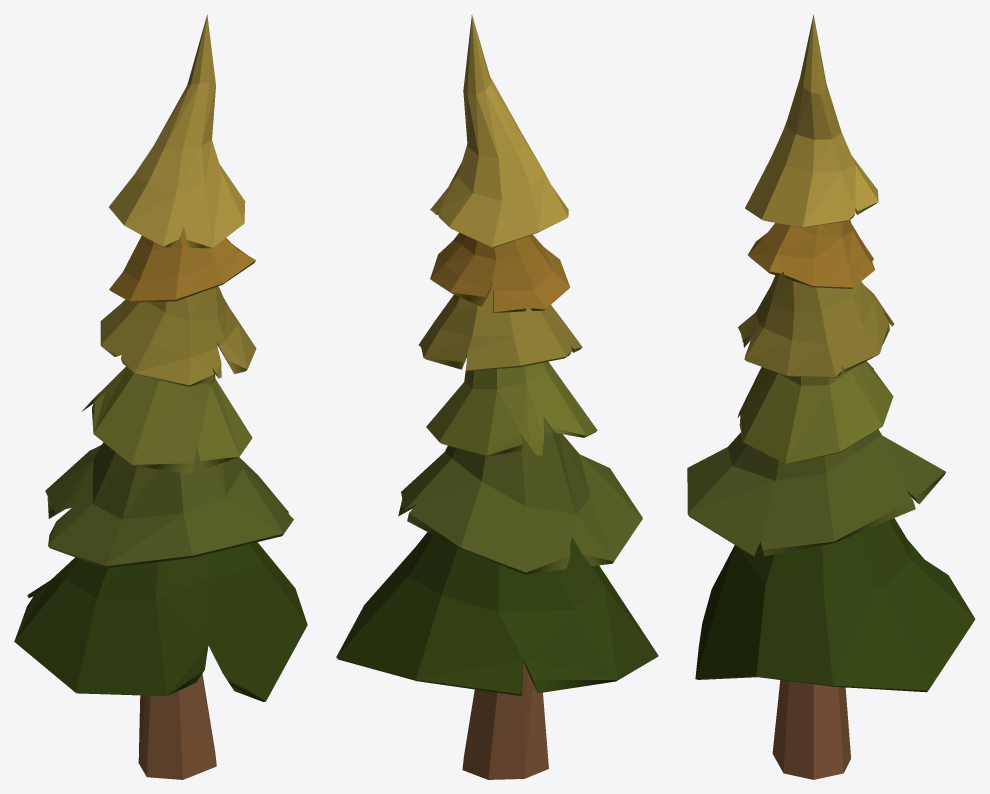
Rendered from tree1.FBX.
3 views of the same model, side by side, from view 1: azimuth 30°, elevation 25°; view 2: azimuth 150°, elevation 25°; view 3: azimuth 270°, elevation 25° (orthographic). The views are drawn at different scales.
Parts seen in each view (by area): view 1: Cone037; view 2: Cone037; view 3: Cone037.
Part boxes in pixels (box(x1,y1,x2,y2)): Cone037: box(14, 15, 307, 779); Cone037: box(336, 15, 658, 779); Cone037: box(687, 15, 975, 779).
Size of the model in its own units: 42.02 by 111 by 38.17.
1 material, 1 textured.
